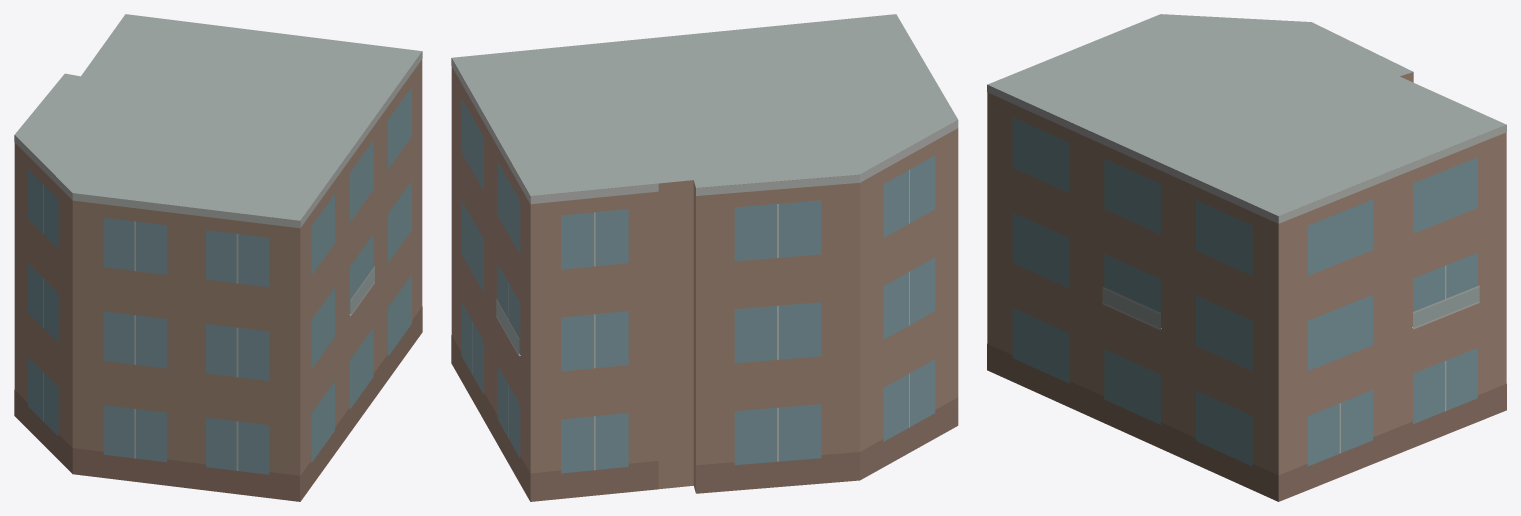
File: survey-upis-32630960.glb
3 views of the same model, side by side, from view 1: azimuth 30°, elevation 25°; view 2: azimuth 150°, elevation 25°; view 3: azimuth 270°, elevation 25° (orthographic). The views are drawn at different scales.
Parts seen in each view (by area): view 1: survey-upis-32630960.tmp; view 2: survey-upis-32630960.tmp; view 3: survey-upis-32630960.tmp.
Boxes of the visible parts, x1=… form: survey-upis-32630960.tmp: x1=14, y1=14, x2=422, y2=501; survey-upis-32630960.tmp: x1=451, y1=14, x2=958, y2=501; survey-upis-32630960.tmp: x1=987, y1=14, x2=1506, y2=501.
Size of the model in its own units: 13.9 by 9.15 by 15.09.
